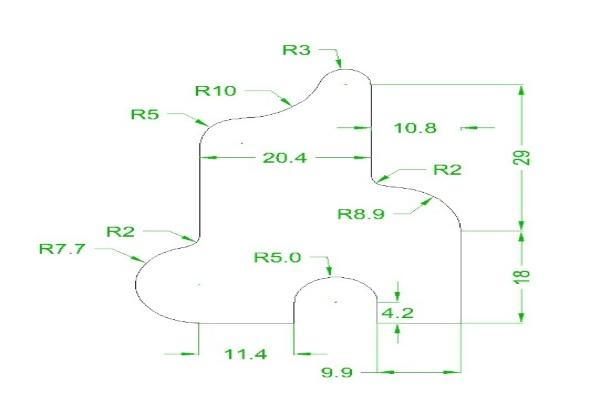dimensions: (252, 246, 306, 274), (390, 114, 443, 140), (262, 146, 317, 170), (314, 358, 362, 385), (331, 205, 391, 226), (31, 239, 91, 259), (122, 101, 166, 126), (221, 342, 268, 365), (99, 217, 140, 243), (194, 80, 241, 102), (430, 156, 468, 180), (508, 142, 534, 174), (274, 37, 314, 57), (380, 302, 417, 323), (508, 261, 535, 288)
